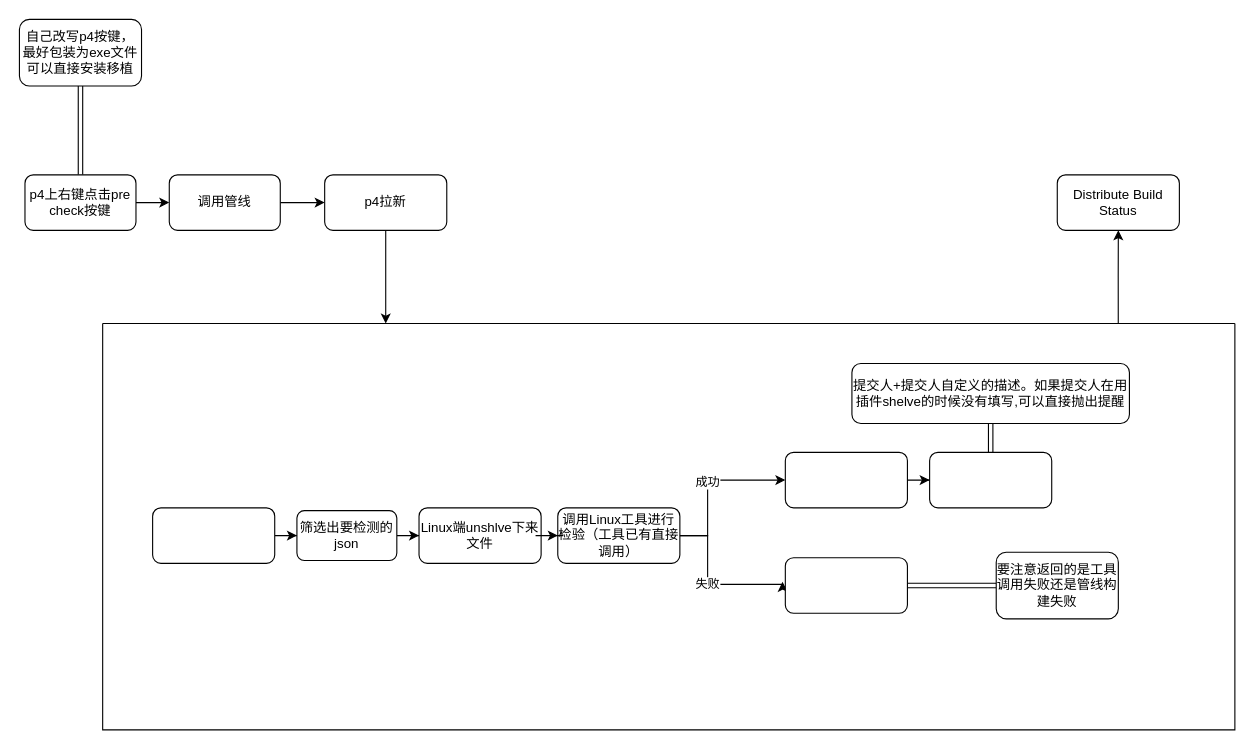
This 1254x749 diagram has some shape labels left out. Here are the shapes that lost their labels. From the top down, the box of each, then its label:
(784, 451, 907, 508): submit文件
(929, 451, 1052, 508): 自动填入描述
(152, 507, 275, 563): 文件shelve
(102, 322, 1235, 730): Do Pre Check
(784, 557, 907, 613): 返回报错日志在提交人wave上
